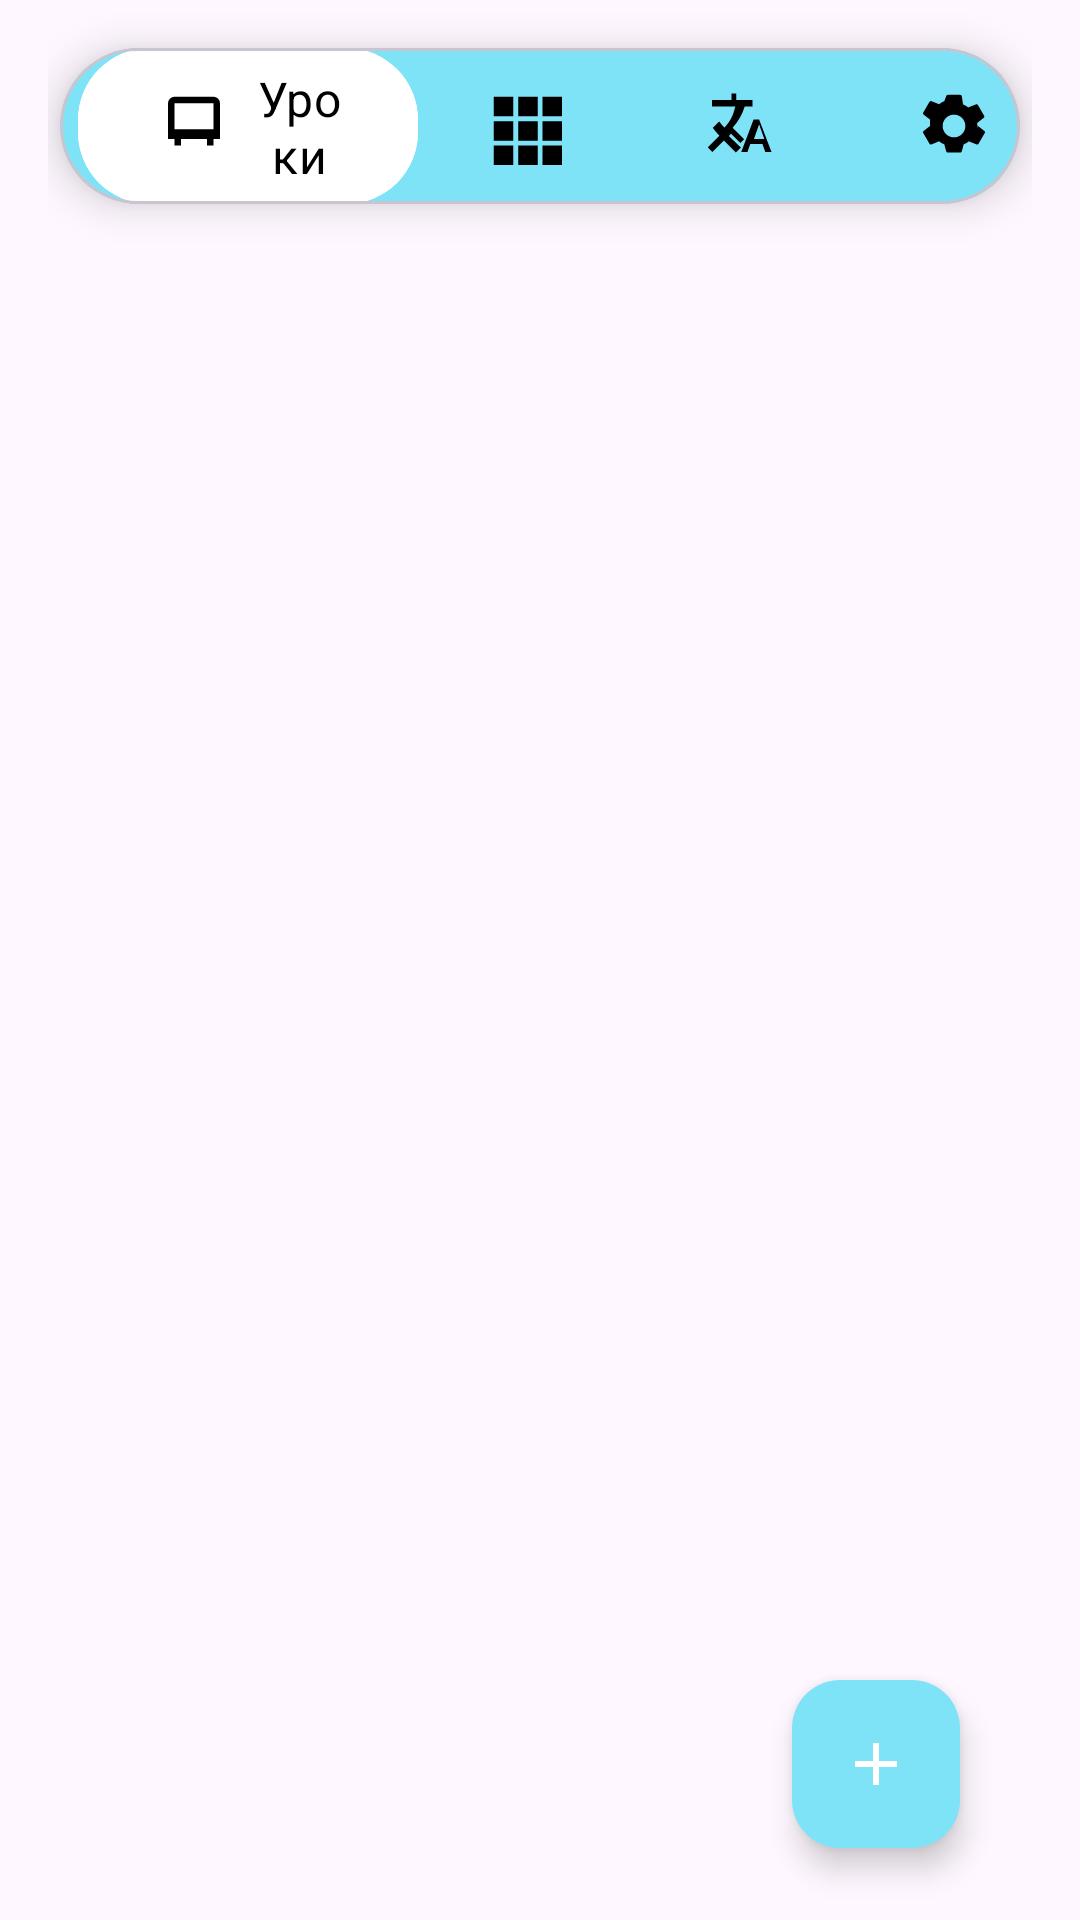

Locate icon controls on the screen. Image size 1080px×1920px, boxes as bbox=(x1, y1, x2, y2).
Коллекции: bbox=(493, 96, 562, 165)
Словарь: bbox=(708, 93, 772, 153)
Создать урок: bbox=(792, 1680, 960, 1848)
